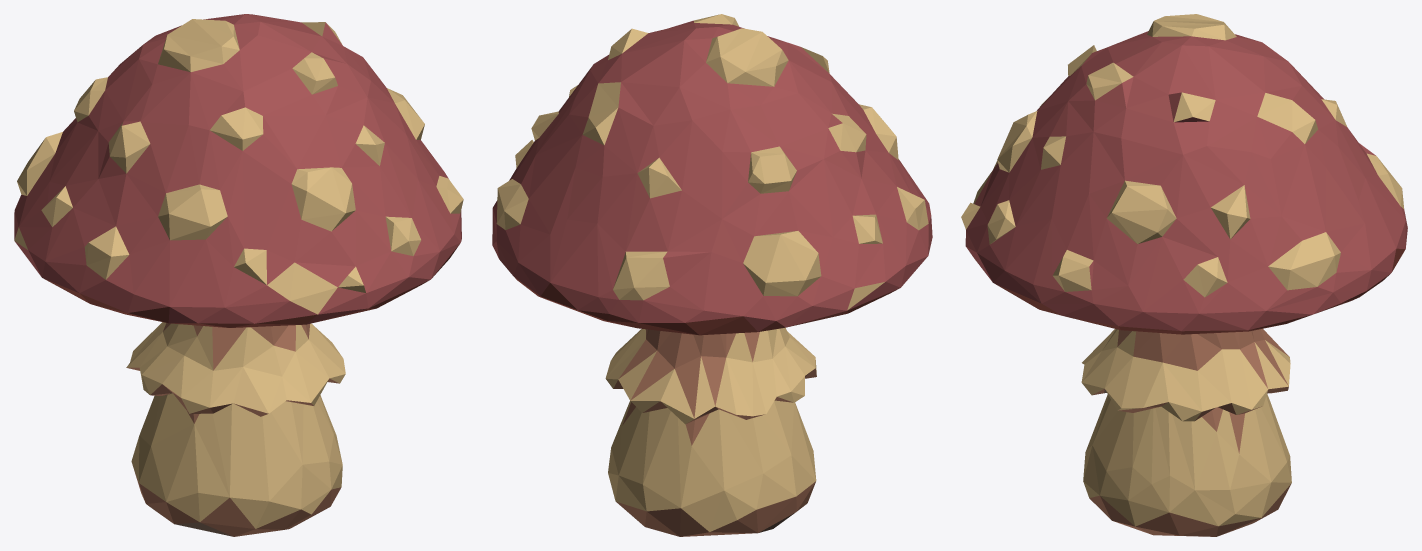
File: prop_flugsvamp.glb
3 views of the same model, side by side, from view 1: azimuth 30°, elevation 25°; view 2: azimuth 150°, elevation 25°; view 3: azimuth 270°, elevation 25° (orthographic).
Visible parts, largest first — view 1: PropFlugsvampBody; view 2: PropFlugsvampBody; view 3: PropFlugsvampBody.
Part boxes in pixels (x1=…): PropFlugsvampBody: x1=14, y1=14, x2=463, y2=536; PropFlugsvampBody: x1=492, y1=14, x2=932, y2=536; PropFlugsvampBody: x1=961, y1=14, x2=1407, y2=536.
Bounding box in the file's own units: 0.8419 × 1 × 0.8512.
